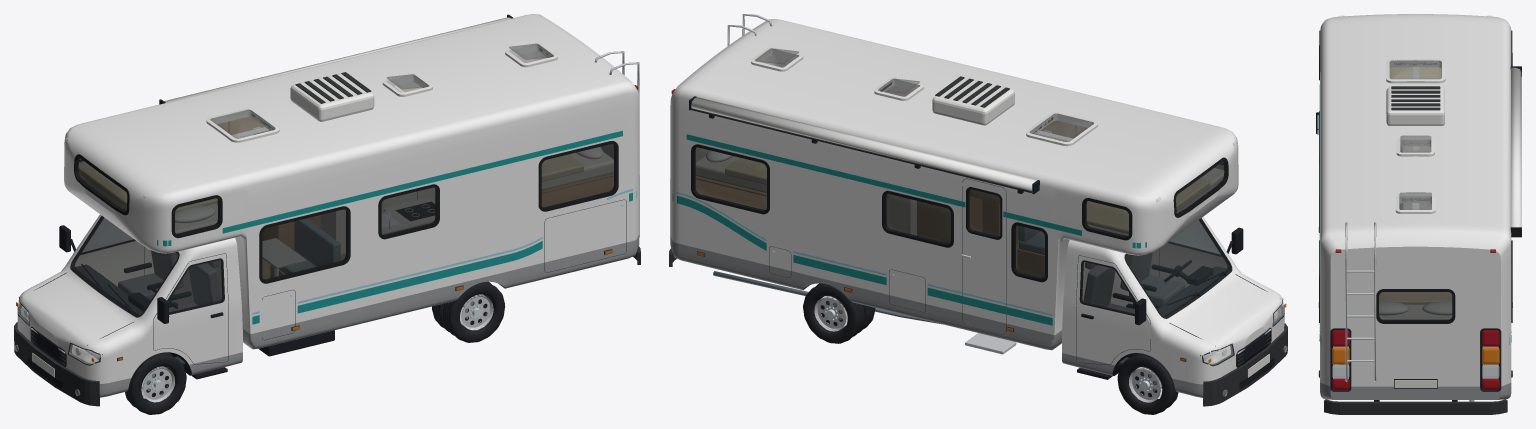
Rendered from generic-class-c-motorhome-with-over-cab-bed-e03c6bf3.glb.
3 views of the same model, side by side, from view 1: azimuth 30°, elevation 25°; view 2: azimuth 150°, elevation 25°; view 3: azimuth 270°, elevation 25° (orthographic). The views are drawn at different scales.
Parts seen in each view (by area): view 1: Original coachbuilt habitation body with over-cab alcove, Original van cab chassis lofted cab shell, Raked laminated windscreen glazing, Left habitation window glazing, Rear garage door, Driver cab door, Left habitation window glazing.002, Teal alcove and roofline decal.001, Roof air conditioner shroud, Left habitation window glazing.001, Teal sweep decal.001, Cab door window glazing (+33 smaller); view 2: Original coachbuilt habitation body with over-cab alcove, Original van cab chassis lofted cab shell, Raked laminated windscreen glazing, Habitation entrance door, Roll-out awning cassette, Passenger cab door, Right habitation window glazing.002, Right habitation window glazing.001, Roof air conditioner shroud, Cab door window glazing.001, Tyre with tread blocks.001, Front bumper (+34 smaller); view 3: Original coachbuilt habitation body with over-cab alcove, Rear bumper, Rear window glazing, Roll-out awning cassette, Roof air conditioner shroud, Lounge skylight translucent dome, Lounge skylight raised frame, Rear island bed duvet, Rear window moulded frame, Bedroom roof vent tilted hatch, Kitchen roof vent tilted hatch, Kitchen roof vent raised frame (+22 smaller).
Part boxes in pixels (box(x1,y1,x2,y2)): Original coachbuilt habitation body with over-cab alcove: box(64, 14, 639, 349); Original van cab chassis lofted cab shell: box(17, 214, 242, 397); Raked laminated windscreen glazing: box(72, 216, 177, 315); Left habitation window glazing: box(262, 209, 347, 280); Rear garage door: box(544, 199, 626, 272); Driver cab door: box(153, 253, 228, 364); Left habitation window glazing.002: box(541, 144, 615, 208); Teal alcove and roofline decal.001: box(222, 130, 622, 233); Roof air conditioner shroud: box(290, 73, 374, 121); Left habitation window glazing.001: box(381, 187, 437, 236); Teal sweep decal.001: box(297, 241, 542, 313); Cab door window glazing: box(168, 260, 223, 312); Original coachbuilt habitation body with over-cab alcove: box(670, 19, 1238, 350); Original van cab chassis lofted cab shell: box(1062, 217, 1284, 397); Raked laminated windscreen glazing: box(1126, 219, 1230, 316); Habitation entrance door: box(962, 178, 1006, 334); Roll-out awning cassette: box(691, 97, 1037, 190); Passenger cab door: box(1076, 255, 1150, 364); Right habitation window glazing.002: box(693, 147, 766, 211); Right habitation window glazing.001: box(885, 194, 950, 244); Roof air conditioner shroud: box(932, 77, 1014, 125); Cab door window glazing.001: box(1081, 262, 1135, 314); Tyre with tread blocks.001: box(1117, 353, 1178, 414); Front bumper: box(1203, 323, 1287, 406); Original coachbuilt habitation body with over-cab alcove: box(1320, 14, 1511, 399); Rear bumper: box(1324, 399, 1507, 414); Rear window glazing: box(1379, 292, 1452, 321); Roll-out awning cassette: box(1511, 67, 1521, 227); Roof air conditioner shroud: box(1386, 87, 1444, 125); Lounge skylight translucent dome: box(1389, 60, 1441, 79); Lounge skylight raised frame: box(1386, 59, 1445, 83); Rear island bed duvet: box(1379, 292, 1451, 304); Rear window moulded frame: box(1376, 289, 1455, 323); Bedroom roof vent tilted hatch: box(1399, 192, 1431, 209); Kitchen roof vent tilted hatch: box(1400, 135, 1431, 152); Kitchen roof vent raised frame: box(1396, 138, 1434, 156).
Bounding box in the file's own units: 7.52 × 3.14 × 2.53.
32 materials, 32 textured.
